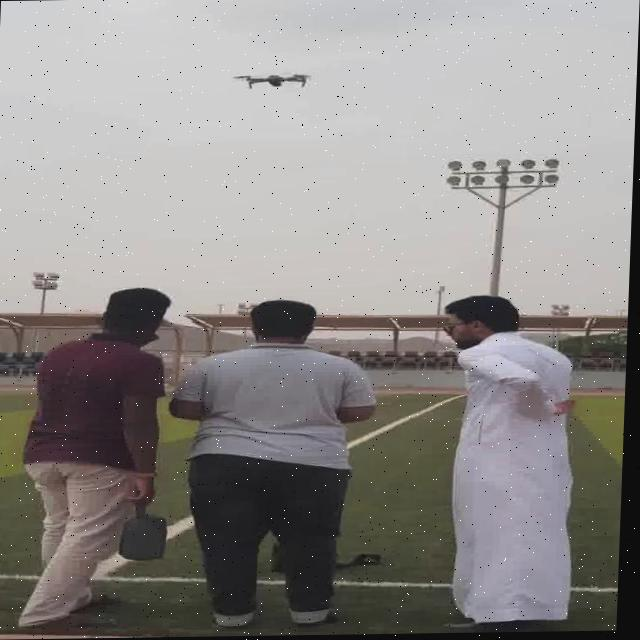drone: (218, 66, 319, 92)
